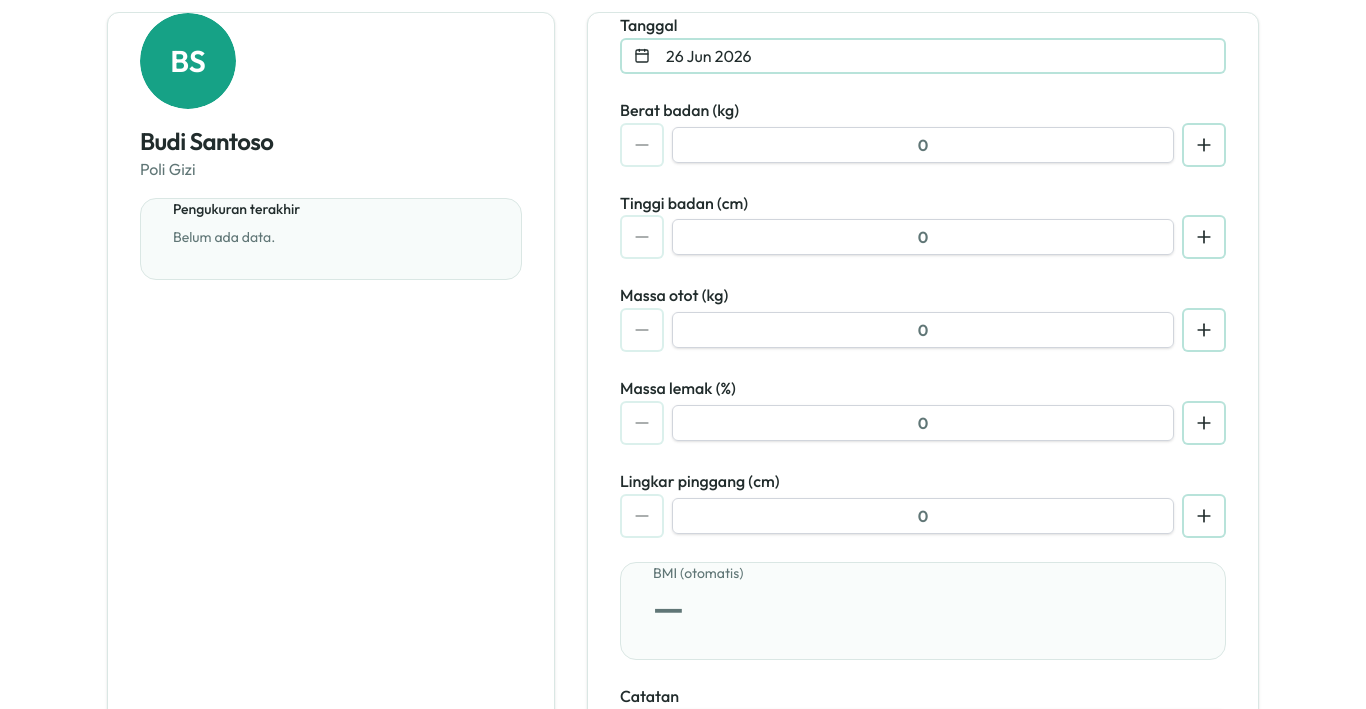
Test: MeasurementForm › auto-calculates and displays BMI when weight and height are entered
Step 1. Type "70" into the field with placeholder "0" below "Berat badan (kg)" → (923, 145), box [672, 127, 1174, 163]
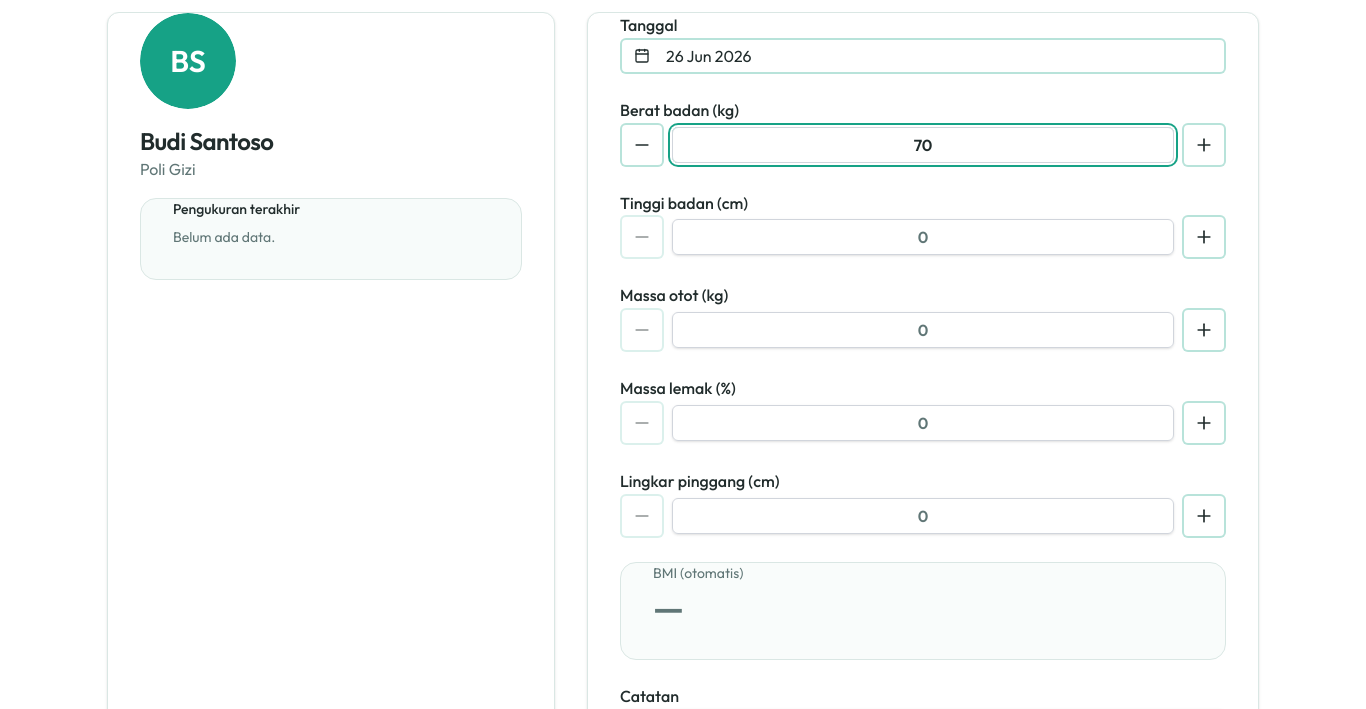
Step 2. Type "170" into the field with placeholder "0" below "Tinggi badan (cm)" → (923, 237), box [672, 219, 1174, 255]
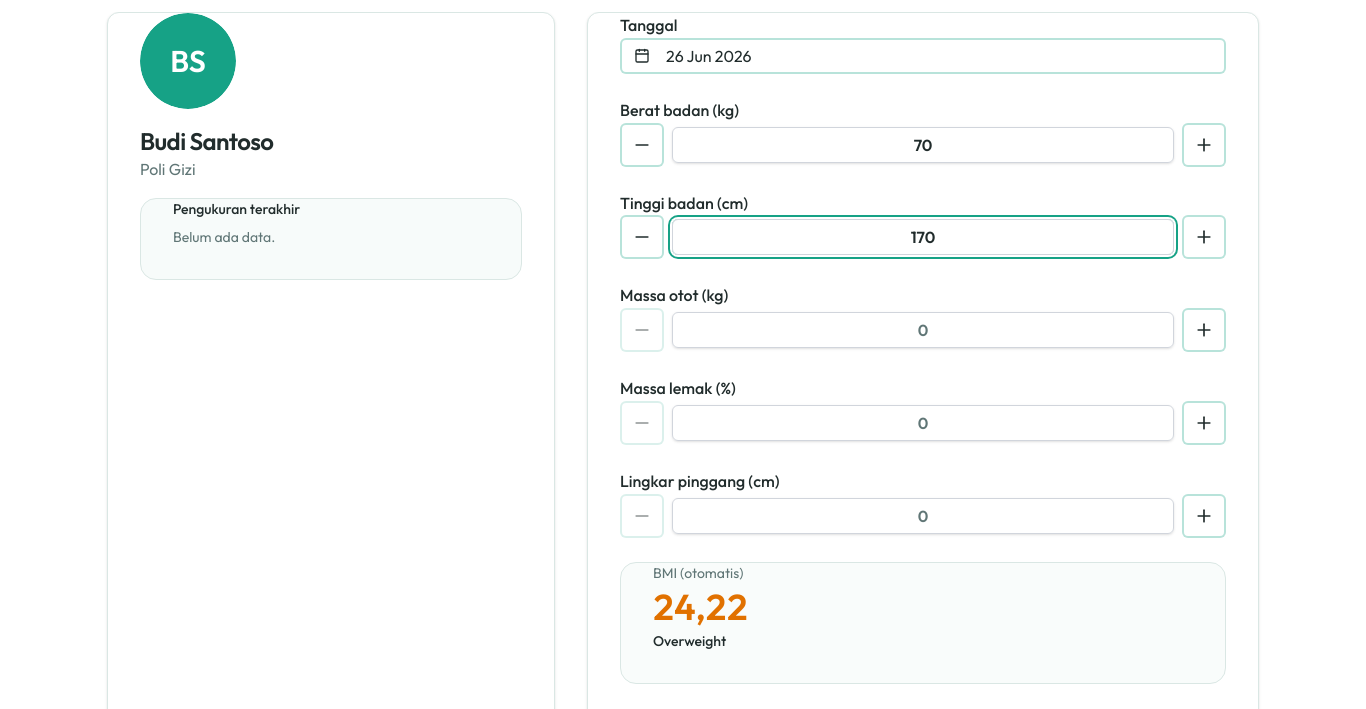
Expected: the text "24,22" is shown, [653, 584, 748, 629]
